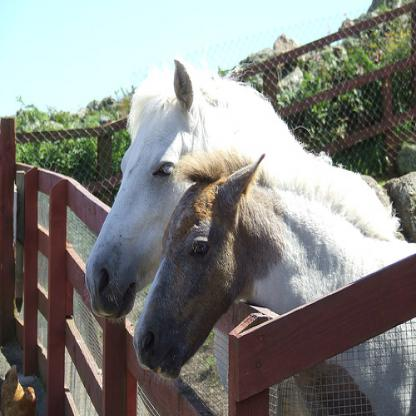bird: (0, 364, 38, 416)
horse: (84, 54, 415, 415), (132, 146, 415, 415)
